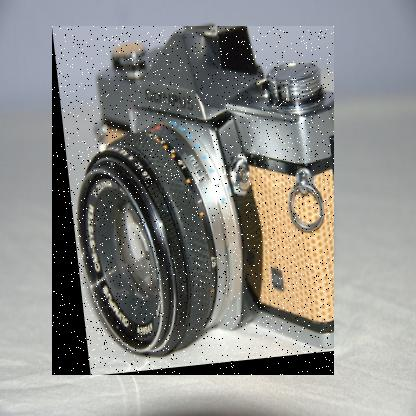Camera: (53, 28, 336, 378)
